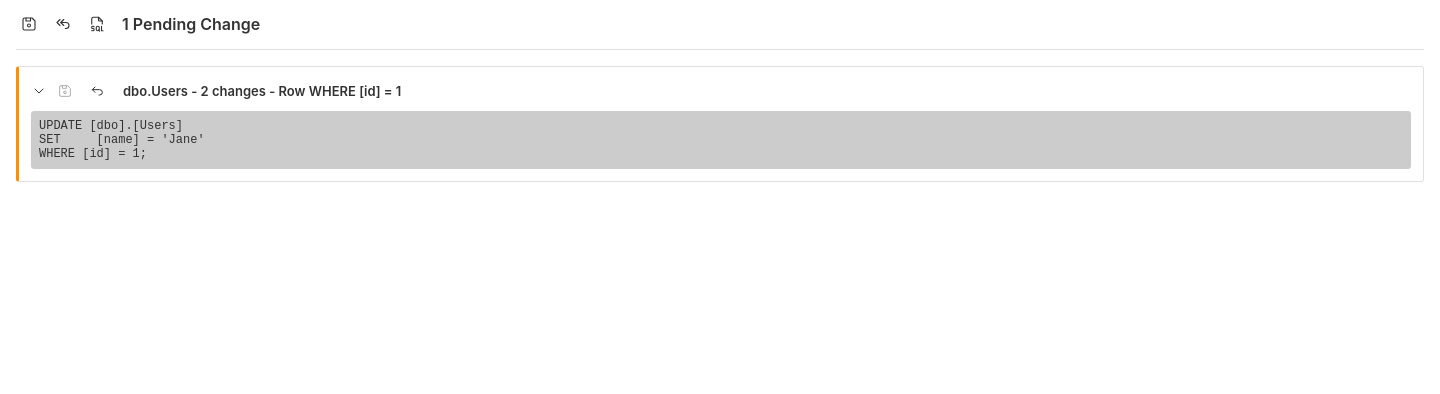
it: PendingChangesTab › validation errors › shows validation error in expanded multi-change view
# Expand the row
Click the button with test id "expand-0" at x=39, y=91, box x1=31 y1=83 x2=47 y2=99
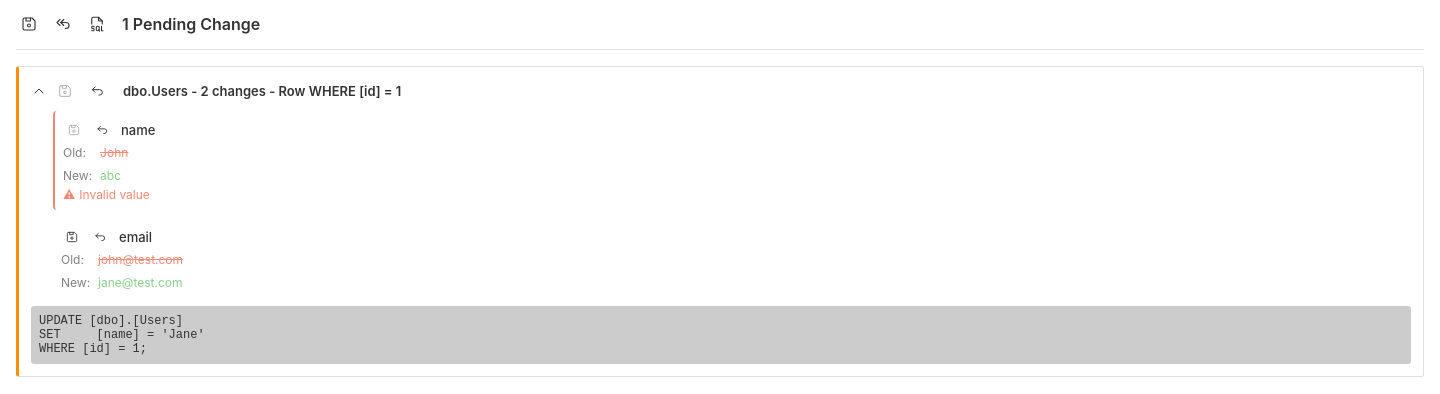
Expected: the element with test id "validation-error-0-name" is shown, x1=63 y1=187 x2=150 y2=202
Expected: the element with test id "validation-error-0-name" shows "Invalid value", x1=79 y1=187 x2=150 y2=202
